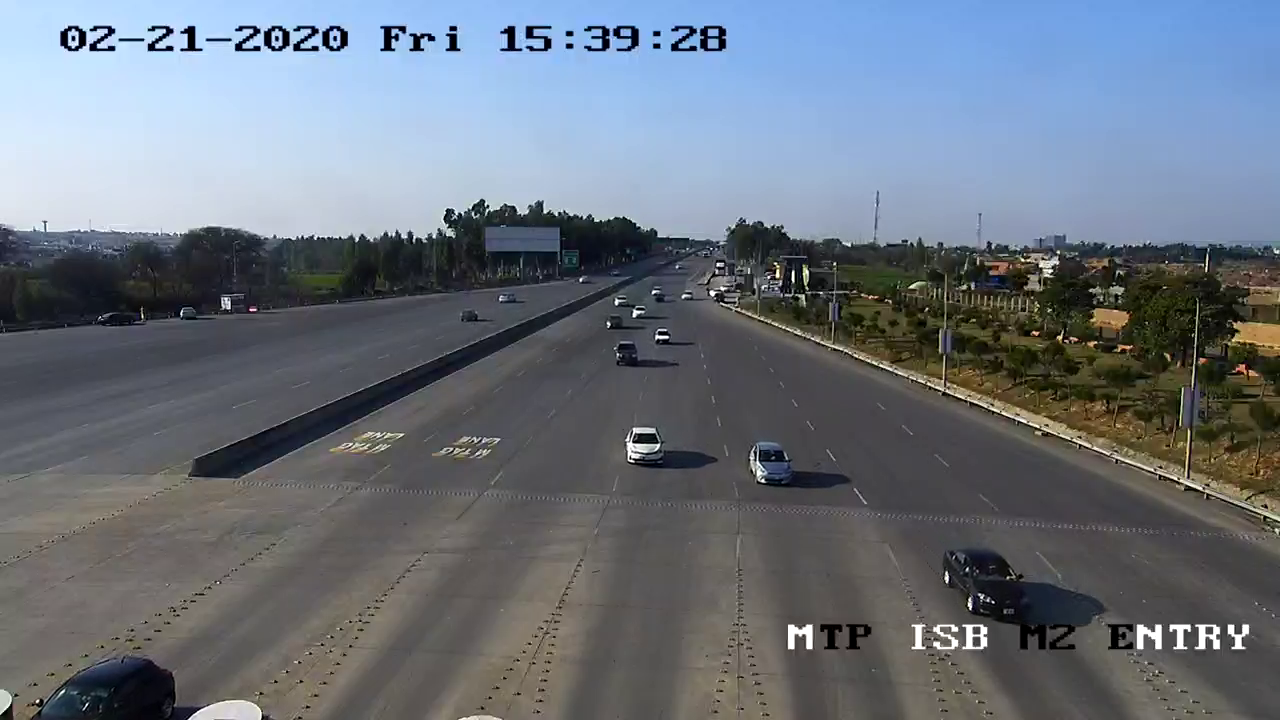f1: (937, 539, 1048, 629), (740, 430, 806, 501), (617, 423, 672, 468)
